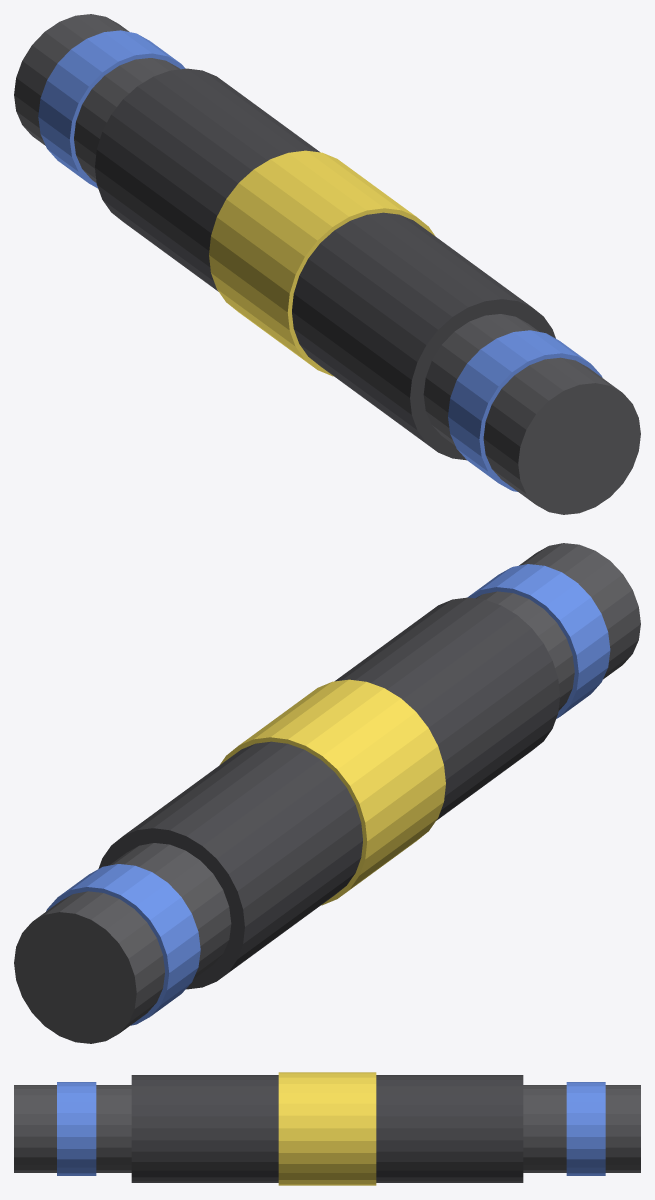
The model's file is mc4-fuse-neg.glb.
3 renders of one model, top to bottom at view 1: azimuth 30°, elevation 25°; view 2: azimuth 150°, elevation 25°; view 3: azimuth 270°, elevation 25°, orthographic. The views are drawn at different scales.
Parts seen in each view (by area): view 1: holder, out_body, amp, in_body, out_band, in_band; view 2: holder, in_body, amp, out_body, in_band, out_band; view 3: holder, amp, in_body, out_body, in_band, out_band.
Boxes of the visible parts, x1,y1,x2,y2 form: holder: [95, 68, 555, 460]; out_body: [423, 314, 640, 514]; amp: [209, 150, 434, 376]; in_body: [14, 14, 180, 182]; out_band: [448, 330, 602, 491]; in_band: [38, 30, 185, 188]; holder: [98, 597, 559, 989]; in_body: [14, 843, 231, 1043]; amp: [220, 679, 445, 905]; out_body: [476, 543, 640, 711]; in_band: [46, 864, 200, 1025]; out_band: [467, 564, 610, 718]; holder: [131, 1075, 523, 1182]; amp: [278, 1072, 376, 1185]; in_body: [523, 1085, 640, 1172]; out_body: [14, 1085, 131, 1172]; in_band: [566, 1082, 605, 1175]; out_band: [57, 1082, 96, 1175].
Bounding box in the file's own units: 0.0232 × 0.0232 × 0.128.
